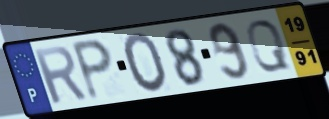8: (162, 27, 207, 88)
9: (208, 20, 251, 81)
O: (121, 31, 170, 96)
P: (69, 37, 116, 104)
Q: (245, 17, 293, 74)
R: (30, 44, 90, 107)
